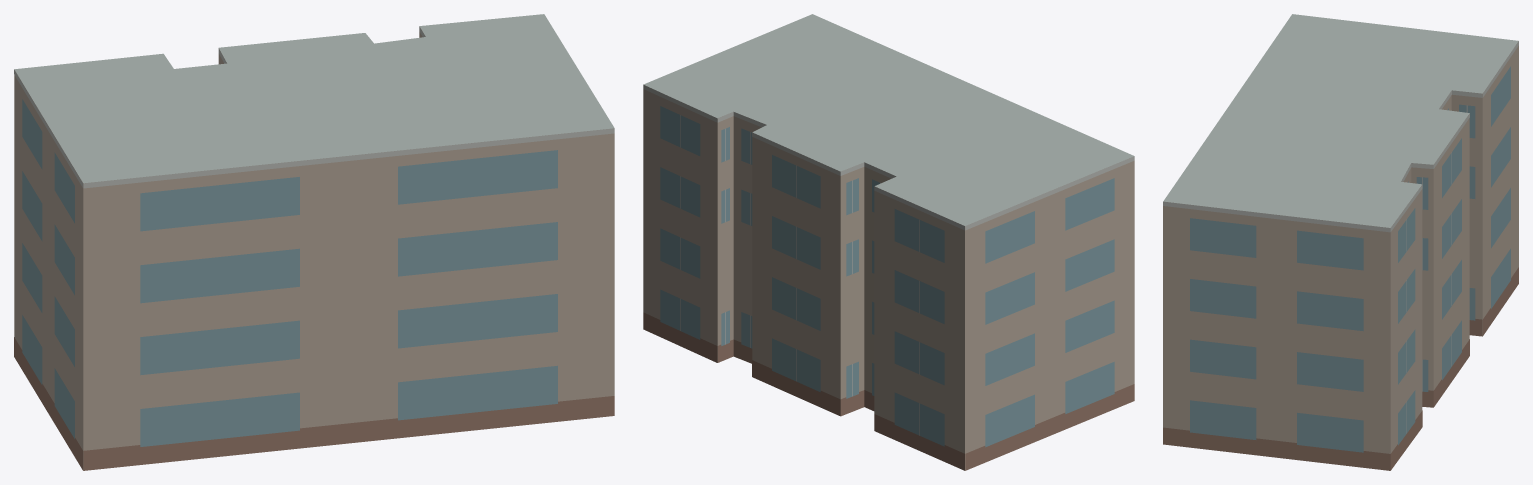
File: survey-upis-32935865.glb
3 renders of one model, left to right at view 1: azimuth 30°, elevation 25°; view 2: azimuth 150°, elevation 25°; view 3: azimuth 270°, elevation 25°, orthographic. The views are drawn at different scales.
Visible parts, largest first — view 1: survey-upis-32935865.tmp; view 2: survey-upis-32935865.tmp; view 3: survey-upis-32935865.tmp.
Boxes of the visible parts, <box> form: survey-upis-32935865.tmp: <box>14,14,614,470</box>; survey-upis-32935865.tmp: <box>643,14,1134,470</box>; survey-upis-32935865.tmp: <box>1163,14,1518,470</box>.
Size of the model in its own units: 25.58 by 13.53 by 17.98.
